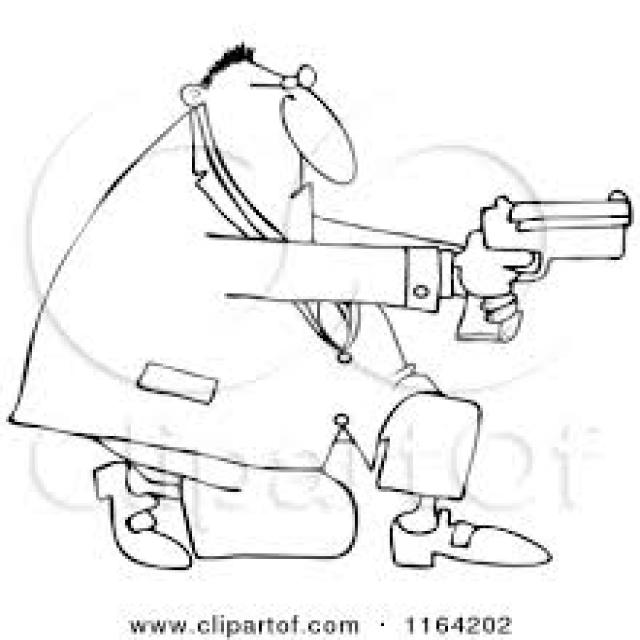gun: (442, 179, 628, 349)
